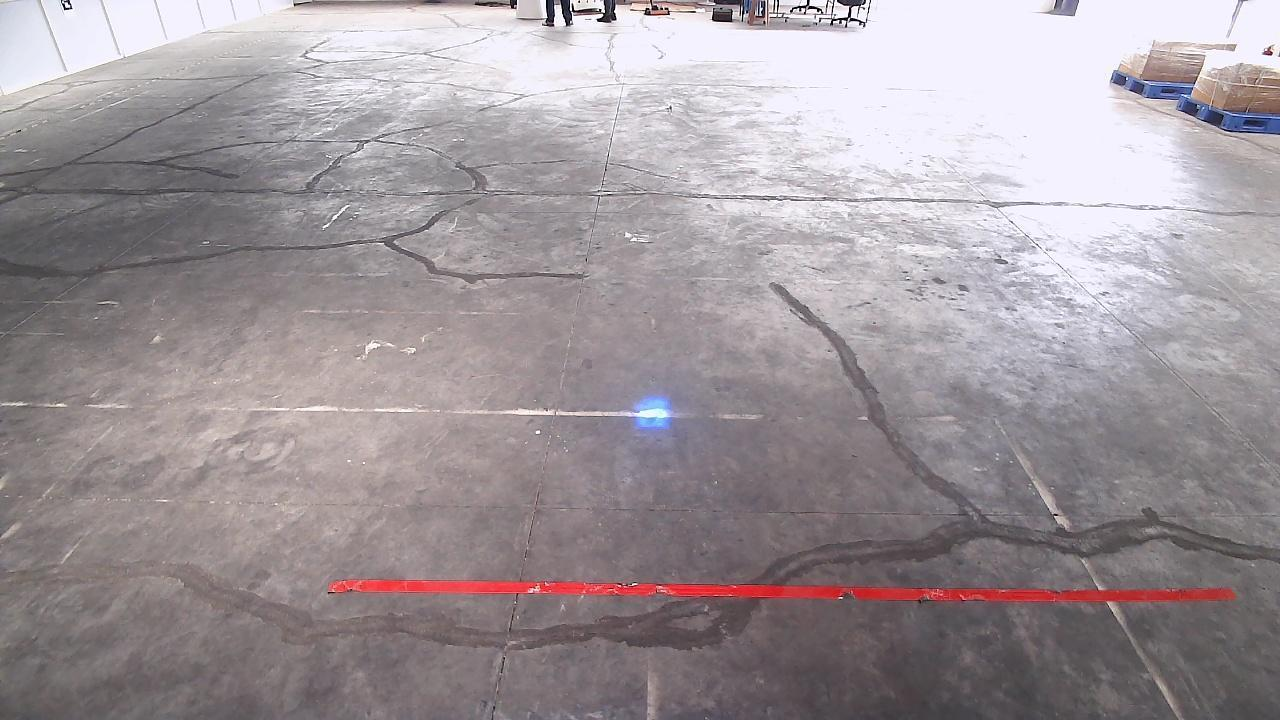red_line: (322, 580, 1237, 602)
